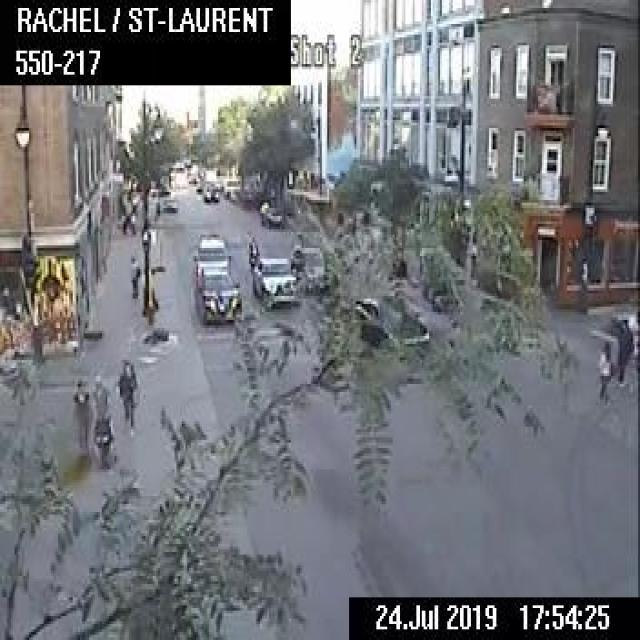pedestrian: (592, 314, 634, 402), (92, 369, 115, 466), (116, 355, 137, 432), (72, 376, 91, 452), (129, 250, 139, 300)
vehicle: (354, 294, 428, 352), (195, 268, 240, 324), (290, 244, 332, 292), (251, 258, 292, 307), (192, 231, 228, 278), (258, 201, 283, 226), (246, 237, 257, 267), (201, 183, 219, 200)
